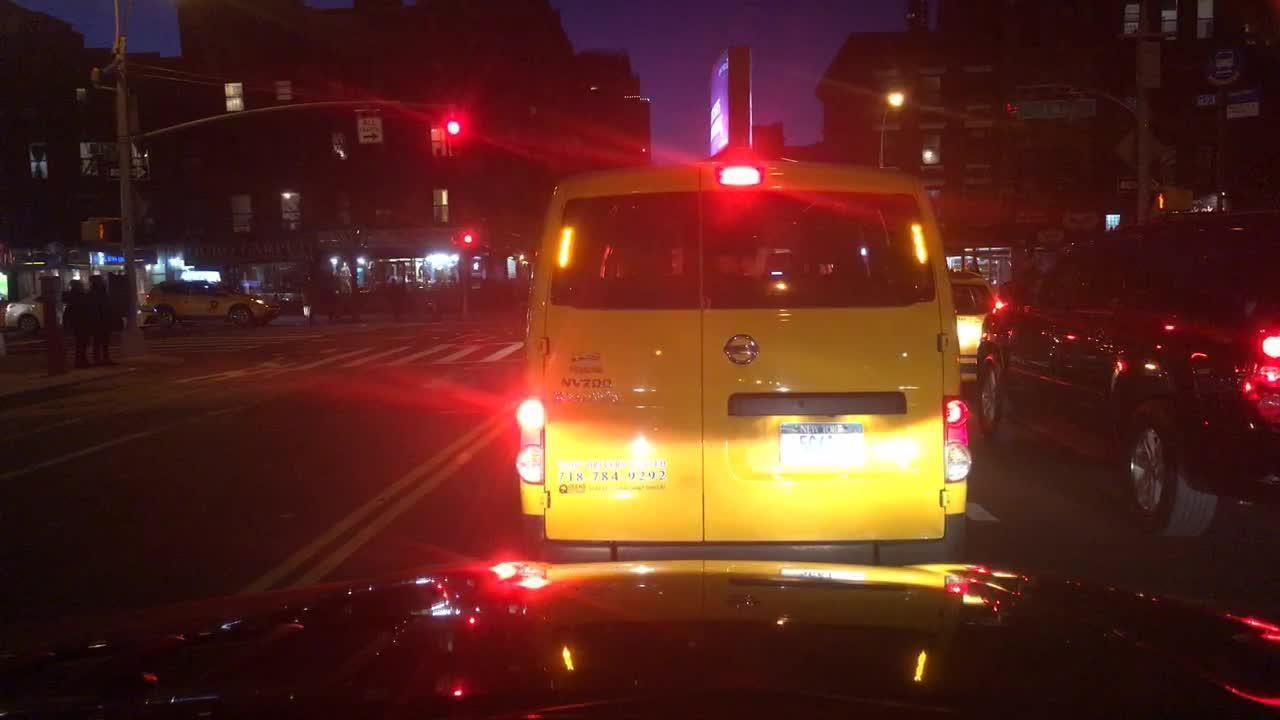Nissan: (716, 329, 765, 371)
